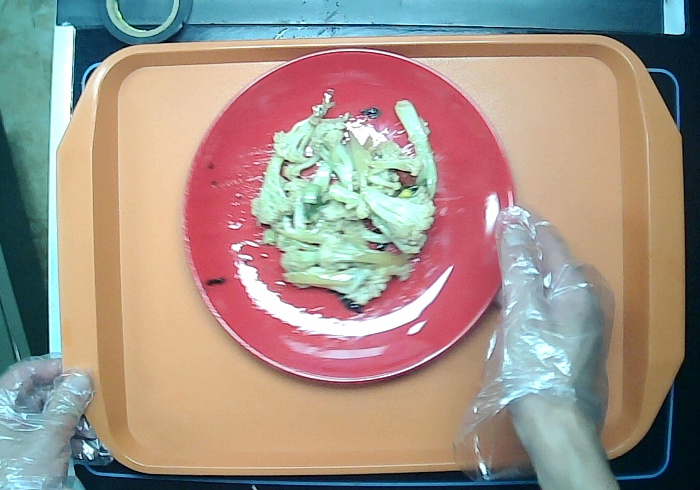HZYJPL-Hong_Se_Yuan_Pan: (182, 49, 519, 390)
